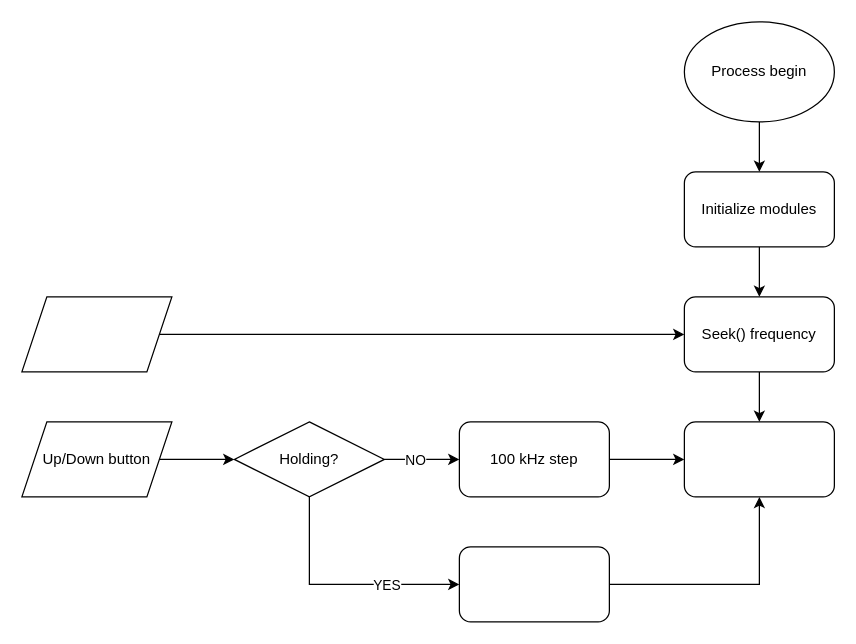
Some shapes in this 856 by 644 pixel diagram are drawn without their labels. Here are the shapes that lost their labels. From the top down, the box of each, then its label:
(21, 296, 172, 372): Seek button
(683, 421, 834, 497): Set and display frequency
(458, 546, 609, 622): Continual frequency change
